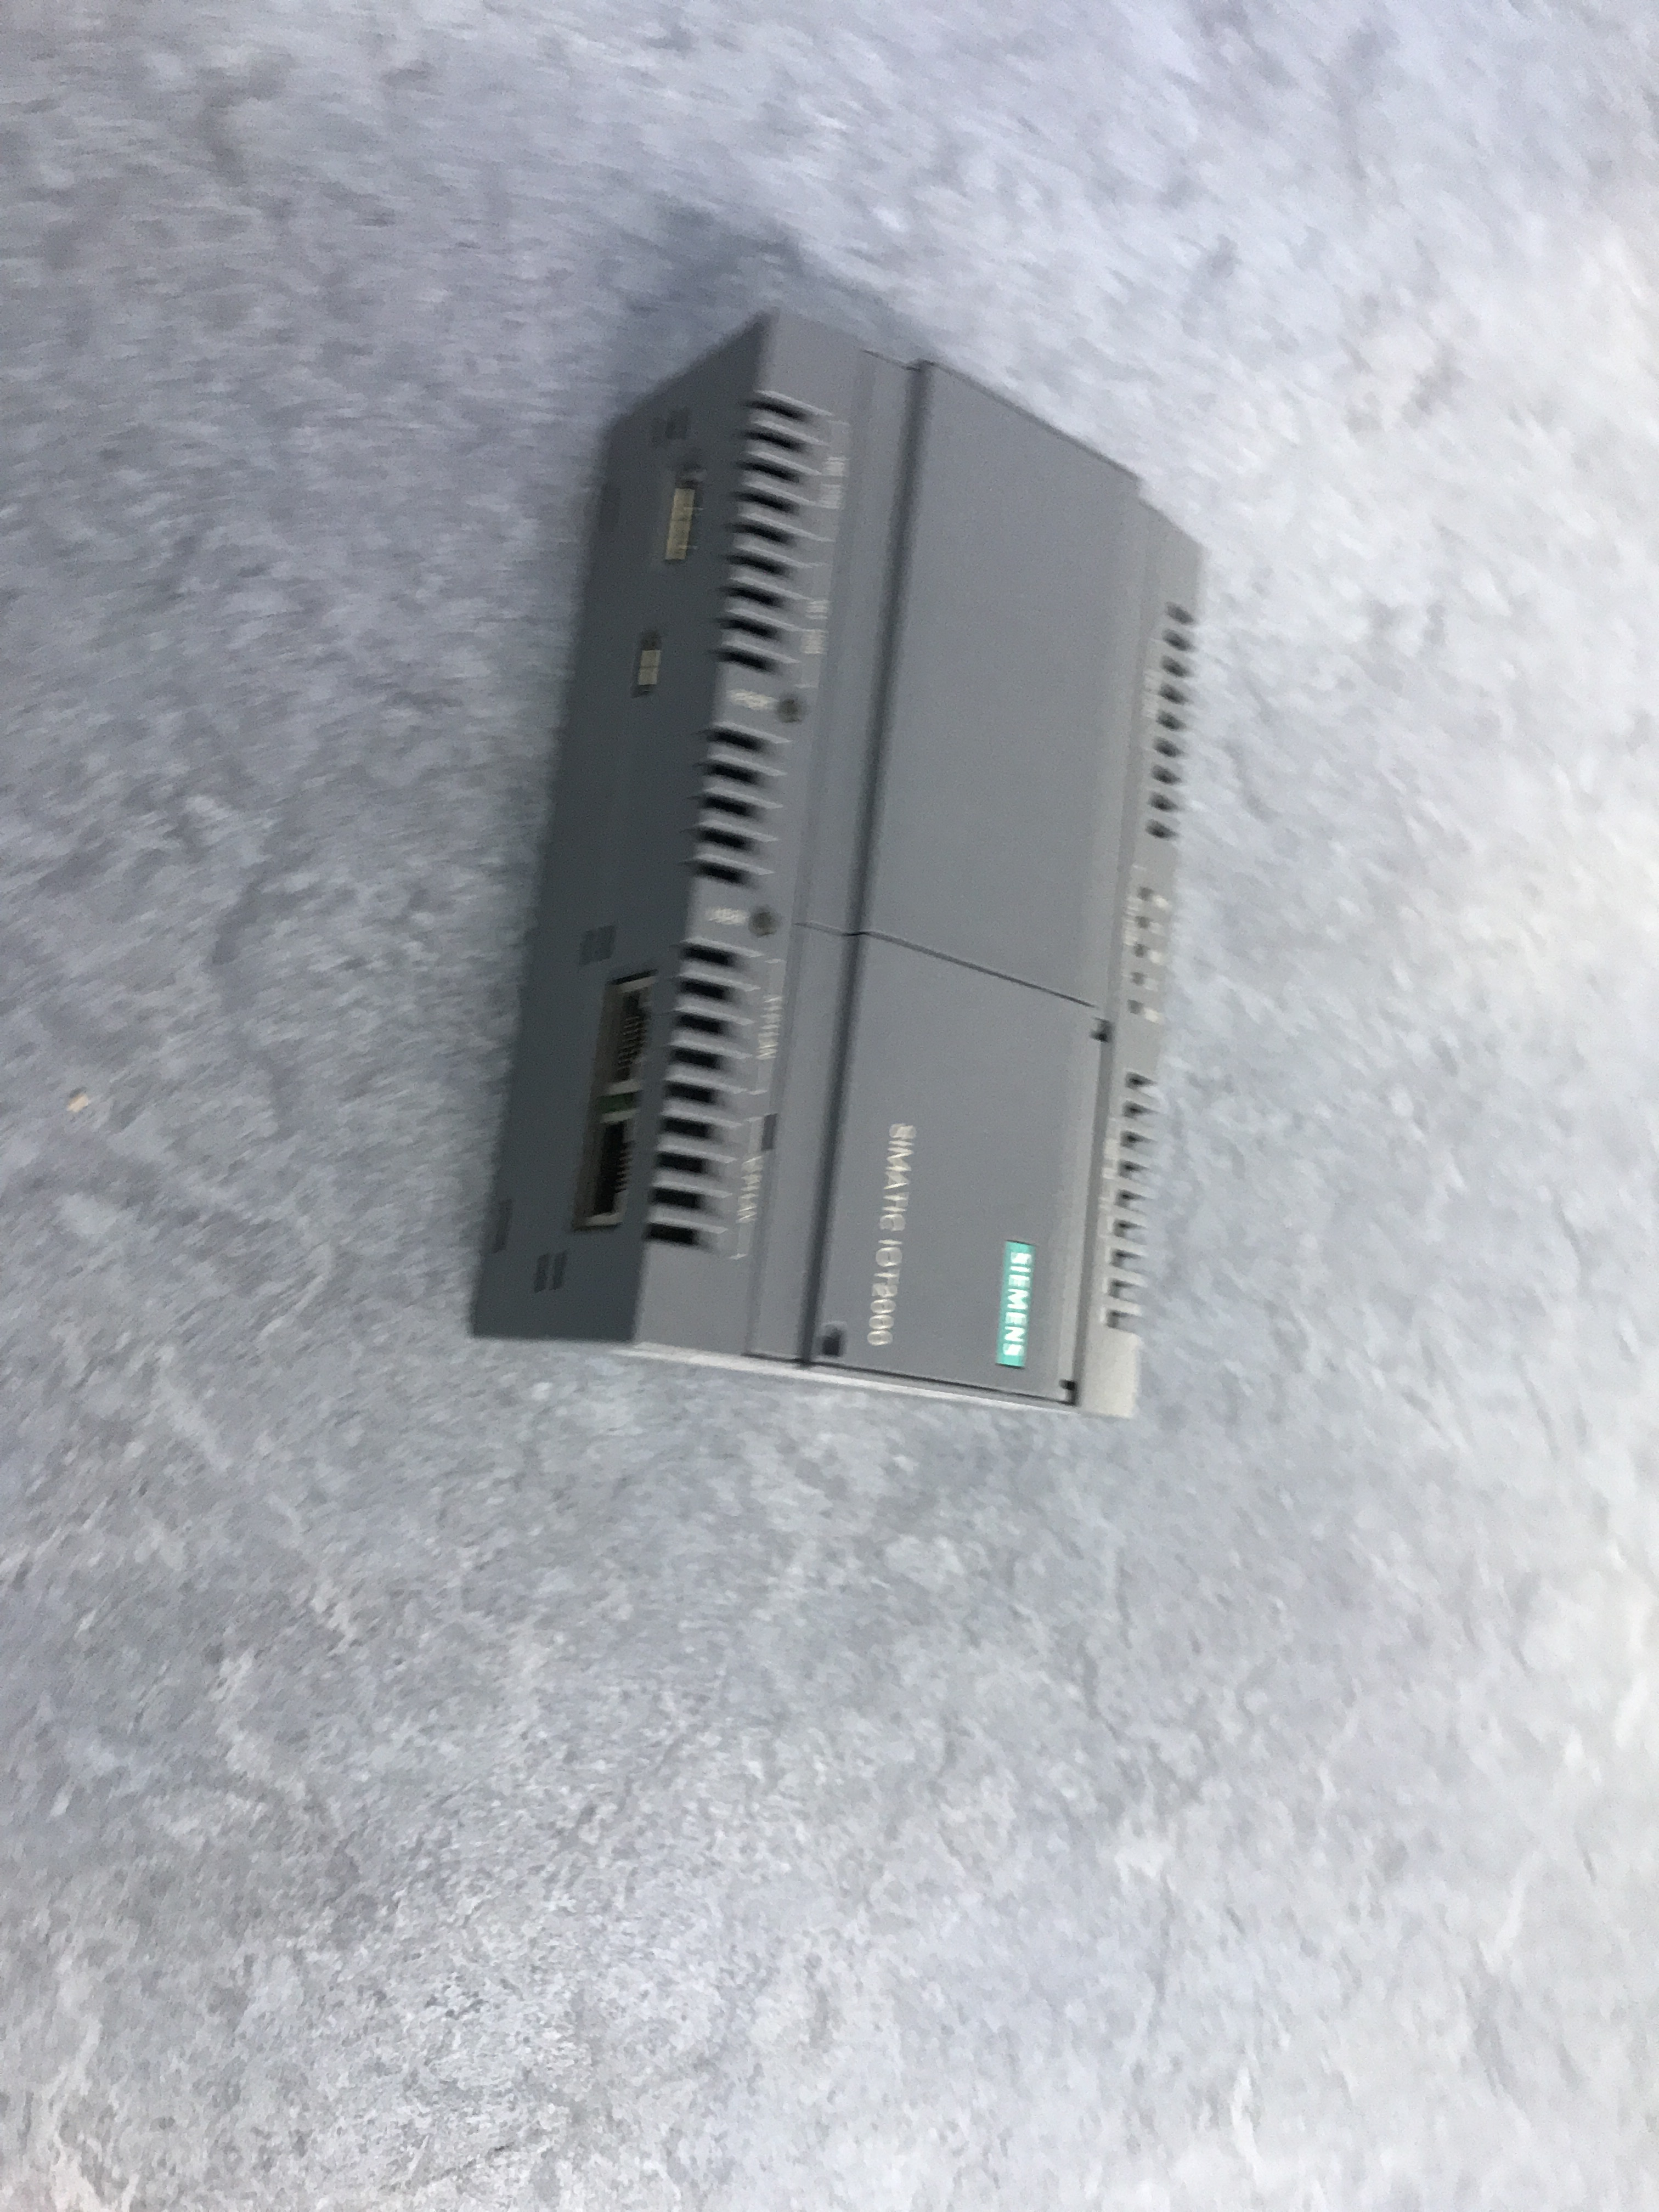device: (465, 303, 1206, 1425)
